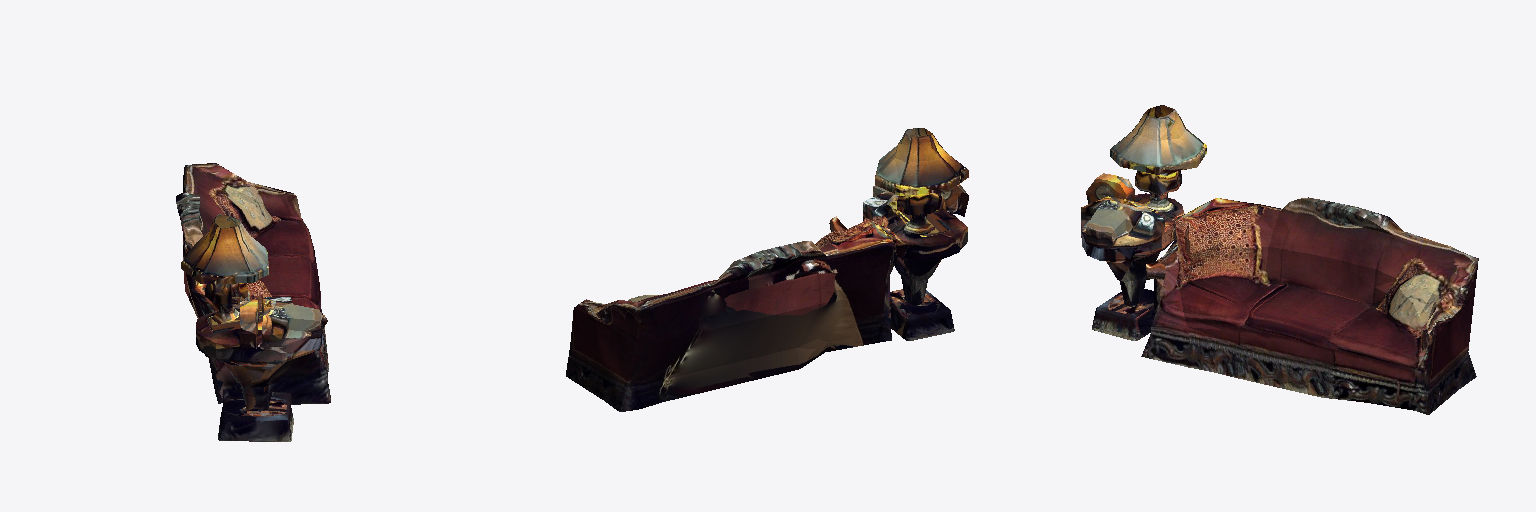
3 renders of one model, left to right at view 1: azimuth 30°, elevation 25°; view 2: azimuth 150°, elevation 25°; view 3: azimuth 270°, elevation 25°, orthographic.
Visible parts, largest first — view 1: LivingRoom_GEO_GRP_LivingRoom_Sofa_01; view 2: LivingRoom_GEO_GRP_LivingRoom_Sofa_01; view 3: LivingRoom_GEO_GRP_LivingRoom_Sofa_01.
Part boxes in pixels (bbox=[...]): LivingRoom_GEO_GRP_LivingRoom_Sofa_01: bbox=[176, 163, 330, 441]; LivingRoom_GEO_GRP_LivingRoom_Sofa_01: bbox=[566, 128, 968, 411]; LivingRoom_GEO_GRP_LivingRoom_Sofa_01: bbox=[1081, 105, 1478, 414].
Size of the model in its own units: 1.89 by 1.45 by 2.54.
Materials: 1 (1 with a texture image).